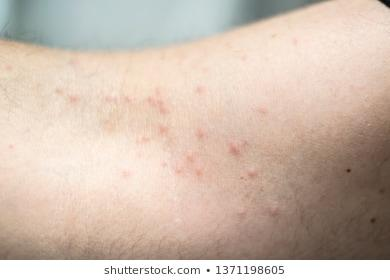Fleas: (229, 140, 245, 157), (170, 162, 186, 178), (144, 95, 165, 107), (256, 105, 274, 118), (245, 164, 261, 178), (153, 122, 170, 135), (104, 96, 133, 103), (268, 202, 281, 217), (183, 148, 195, 163), (68, 92, 79, 103), (195, 128, 206, 139), (237, 209, 248, 219), (195, 86, 207, 94), (194, 169, 203, 179)
